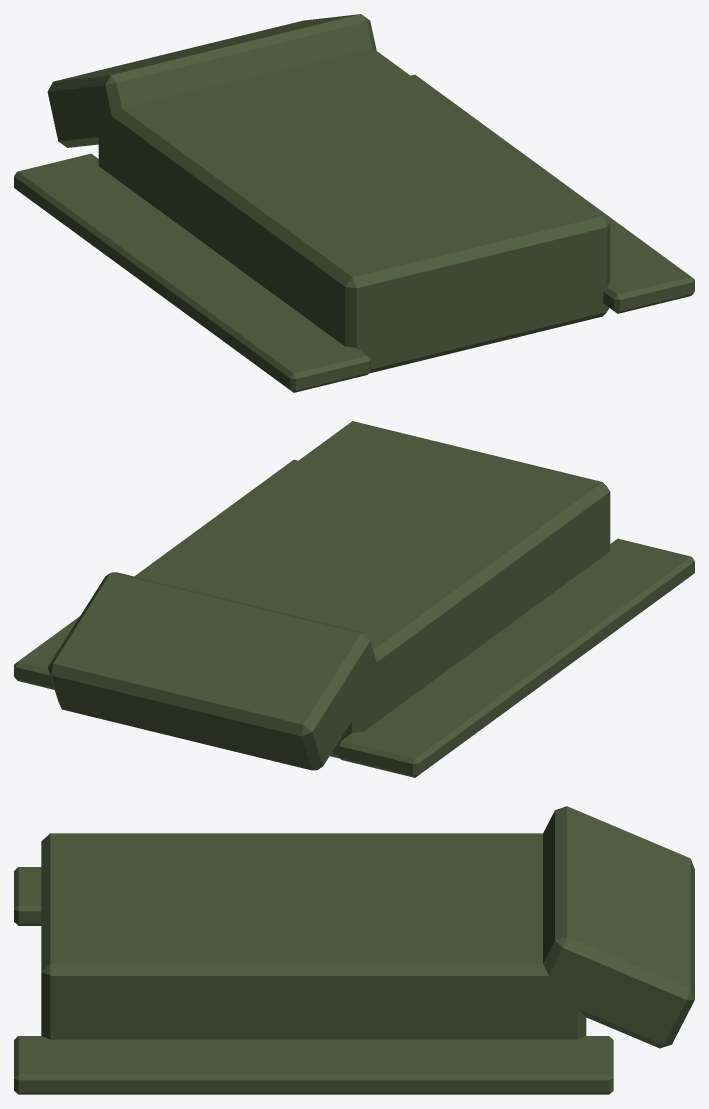
File: tank_hull.glb
3 renders of one model, top to bottom at view 1: azimuth 30°, elevation 25°; view 2: azimuth 150°, elevation 25°; view 3: azimuth 270°, elevation 25°, orthographic. The views are drawn at different scales.
Visible parts, largest first — view 1: tank_hull; view 2: tank_hull; view 3: tank_hull.
Boxes of the visible parts, bbox=[...] form: tank_hull: bbox=[14, 14, 694, 392]; tank_hull: bbox=[14, 421, 694, 777]; tank_hull: bbox=[14, 806, 694, 1094].
Size of the model in its own units: 1.1 by 0.3259 by 1.5.
Materials: 1 (1 with a texture image).
